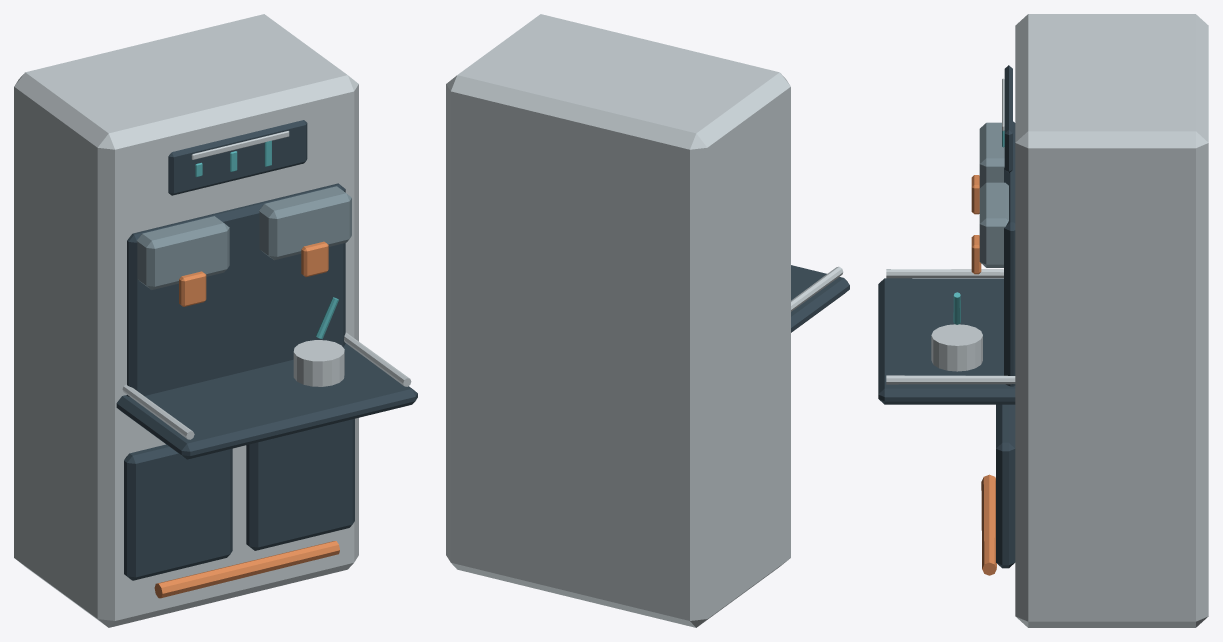
3 views of the same model, side by side, from view 1: azimuth 30°, elevation 25°; view 2: azimuth 150°, elevation 25°; view 3: azimuth 270°, elevation 25° (orthographic).
Visible parts, largest first — view 1: RI-006 Restrained ship galley batched; view 2: RI-006 Restrained ship galley batched; view 3: RI-006 Restrained ship galley batched.
Boxes of the visible parts, box(x1,y1,x2,y2) form: RI-006 Restrained ship galley batched: box(14, 14, 417, 627); RI-006 Restrained ship galley batched: box(446, 14, 849, 627); RI-006 Restrained ship galley batched: box(878, 14, 1208, 627).
Bounding box in the file's own units: 0.94 × 1.7 × 1.03.
